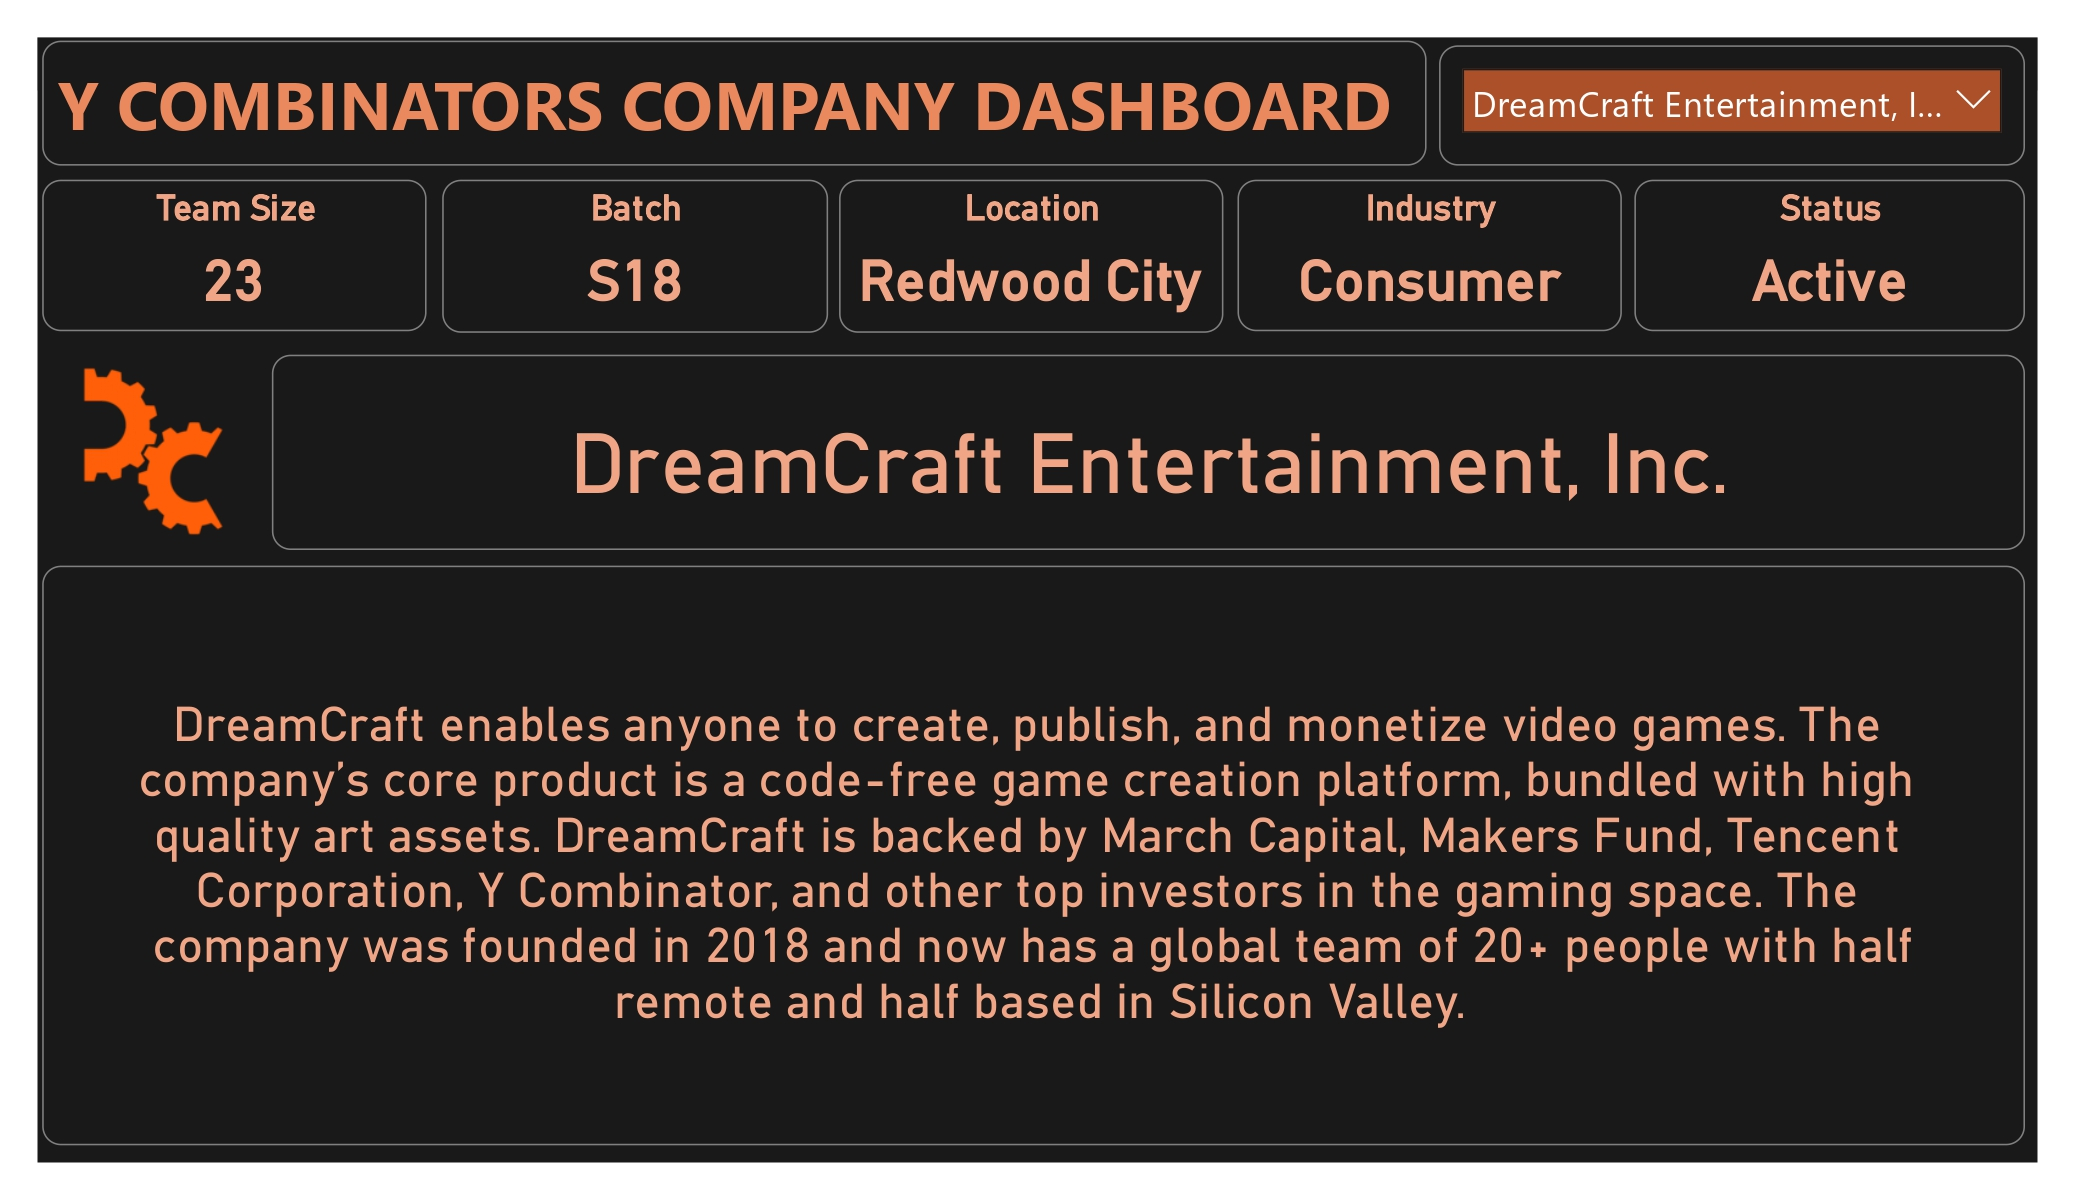

This screenshot's page, from the dashboard's own definition file:
{"tool":"powerbi","page":{"name":"CC_customer","canvas":[1280,720],"ordinal":1},"visuals":[{"type":"textbox","box":[2.9,2,885.7,80.1],"z":0},{"type":"card","title":"Team Size","fields":{"Values":["Sum(companies_data.team_size)"]},"box":[3.1,91.4,245.9,97],"z":1000},{"type":"simpleImageEBC4593F96F1425FB3D84C5BF02B5075","fields":{"imageURL":["companies_data.small_logo_thumb_url"]},"box":[11,201,129,127],"z":2000},{"type":"slicer","fields":{"Values":["companies_data.name"]},"box":[897,5,375,77],"z":3000},{"type":"card","title":"Batch","fields":{"Values":["Min(companies_data.batch)"]},"box":[259.3,91.4,246.2,97.2],"z":4000},{"type":"card","title":"Location","fields":{"Values":["Min(companies_data.Text Before Delimiter)"]},"box":[513.1,91.4,245.9,97.2],"z":5000},{"type":"card","title":"Industry","fields":{"Values":["Min(companies_data.industry)"]},"box":[768.3,91,246.2,97],"z":6000},{"type":"card","title":"Status","fields":{"Values":["Min(companies_data.status)"]},"box":[1022,91,250,97],"z":7000},{"type":"card","fields":{"Values":["Min(companies_data.name)"]},"box":[150,203,1122,125],"z":8000},{"type":"card","fields":{"Values":["Min(companies_data.long_description)"]},"box":[3,338,1269,371],"z":9000}]}

Visuals, with their boxes on the page's 1280x720 design canvas (x1, y1, x2, y2). These are canvas units, not pixel positions in the 2075x1200 screenshot, which may show the page scaled, cropped or inside an application window:
textbox: BBox(3, 2, 889, 82)
"Team Size" card: BBox(3, 91, 249, 188)
simpleImageEBC4593F96F1425FB3D84C5BF02B5075 - companies_data.small_logo_thumb_url: BBox(11, 201, 140, 328)
slicer - companies_data.name: BBox(897, 5, 1272, 82)
"Batch" card: BBox(259, 91, 506, 189)
"Location" card: BBox(513, 91, 759, 189)
"Industry" card: BBox(768, 91, 1014, 188)
"Status" card: BBox(1022, 91, 1272, 188)
card - Min(companies_data.name): BBox(150, 203, 1272, 328)
card - Min(companies_data.long_description): BBox(3, 338, 1272, 709)
